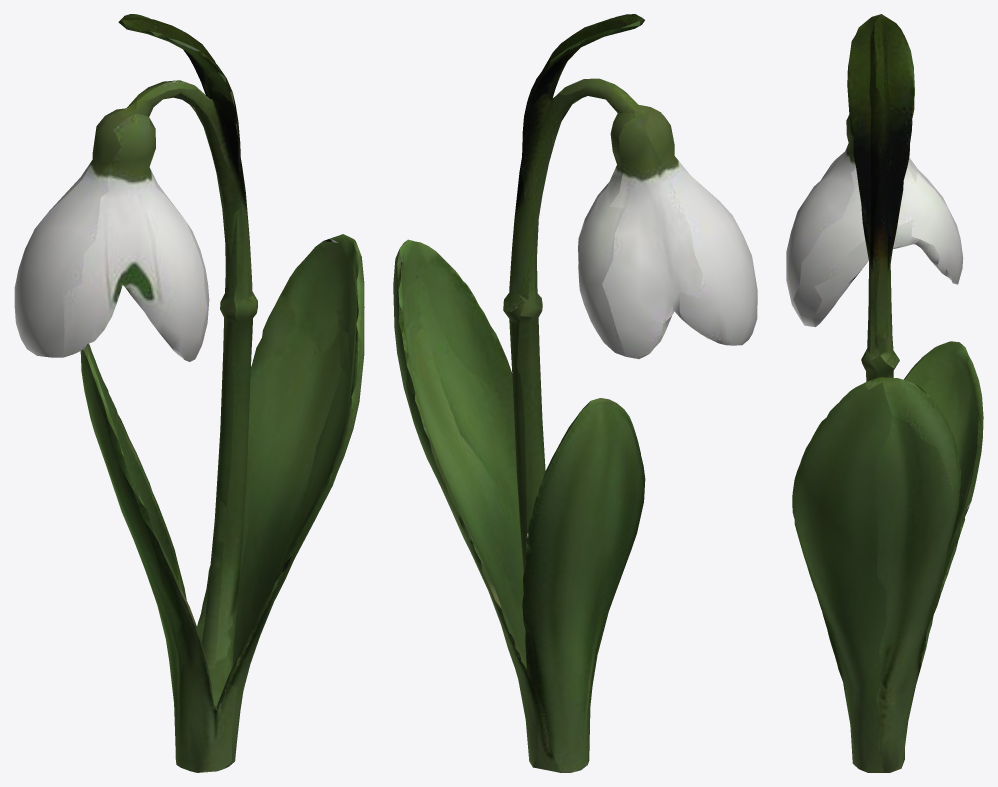
Rendered from snowdrop.glb.
3 renders of one model, left to right at view 1: azimuth 30°, elevation 25°; view 2: azimuth 150°, elevation 25°; view 3: azimuth 270°, elevation 25°, orthographic. The views are drawn at different scales.
Visible parts, largest first — view 1: snowdrop; view 2: snowdrop; view 3: snowdrop.
Boxes of the visible parts, x1=… form: snowdrop: x1=14, y1=14, x2=364, y2=772; snowdrop: x1=393, y1=14, x2=757, y2=772; snowdrop: x1=786, y1=14, x2=983, y2=772.
Size of the model in its own units: 0.4685 by 1 by 0.2511.
1 material, 1 textured.
